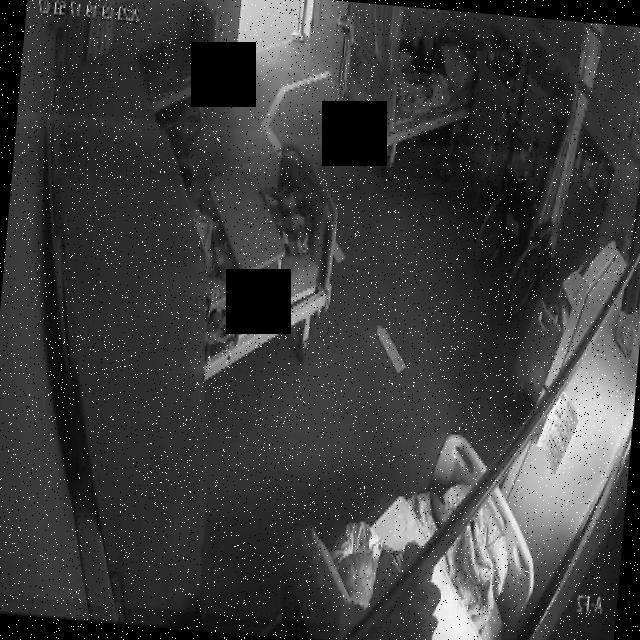bed: (285, 418, 546, 640), (178, 138, 340, 378), (337, 21, 477, 150), (131, 0, 223, 116)
